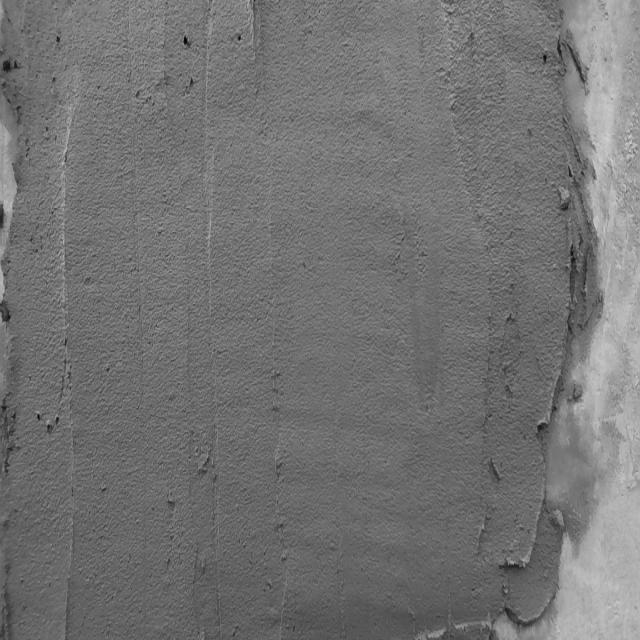trowels marks: (60, 143, 76, 640)
